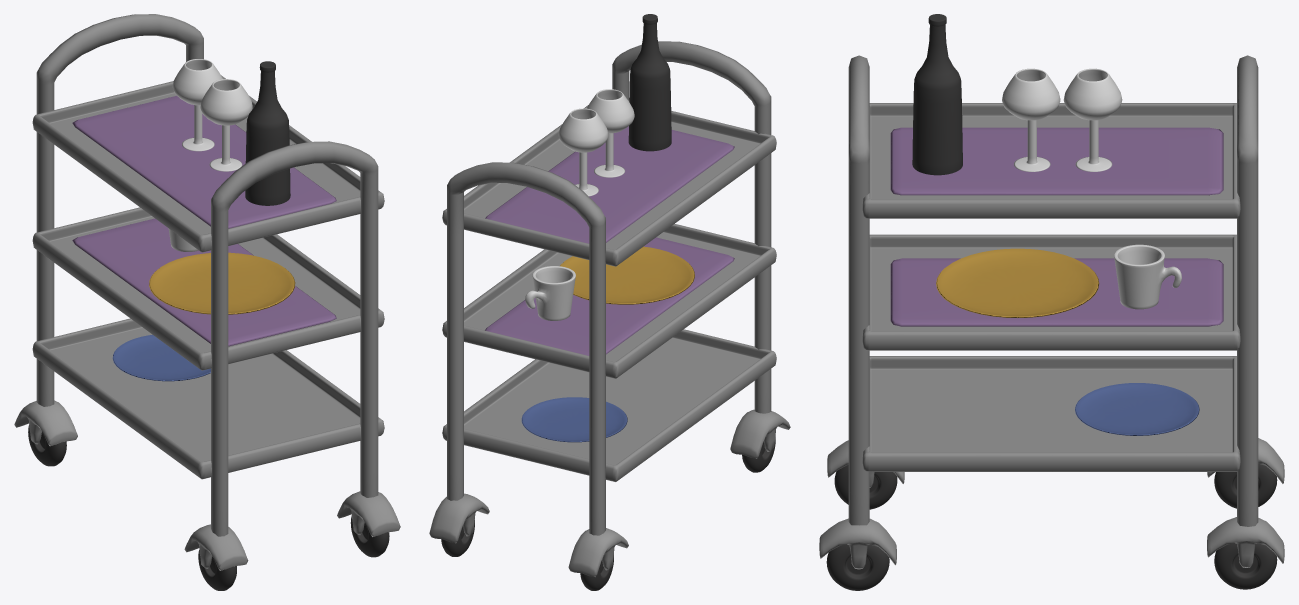
File: foodtrolley.fbx
3 renders of one model, left to right at view 1: azimuth 30°, elevation 25°; view 2: azimuth 150°, elevation 25°; view 3: azimuth 270°, elevation 25°, orthographic. The views are drawn at different scales.
Parts seen in each view (by area): view 1: pCube95, pCube97, pCube94, pCube103, pCube93, pCube96, pCube102, pCylinder17, pCylinder16, pCylinder18, pCylinder19, pCube99 (+8 smaller); view 2: pCube95, pCube96, pCube94, pCube93, pCube103, pCube97, pCube102, pCylinder17, pCylinder16, pCylinder18, pCylinder14, pCube100 (+9 smaller); view 3: pCube95, pCube94, pCube103, pCube93, pCube102, pCube96, pCube97, pCylinder17, pCylinder16, pCylinder18, pCylinder14, pCylinder22 (+11 smaller).
Part boxes in pixels (box(x1,y1,x2,y2)): pCube95: box(32, 318, 384, 479); pCube97: box(211, 141, 378, 536); pCube94: box(32, 207, 384, 370); pCube103: box(72, 95, 336, 228); pCube93: box(32, 75, 384, 252); pCube96: box(36, 14, 203, 406); pCube102: box(72, 218, 336, 346); pCylinder17: box(149, 252, 295, 314); pCylinder16: box(245, 61, 290, 205); pCylinder18: box(112, 334, 210, 381); pCylinder19: box(200, 79, 252, 125); pCube99: box(14, 400, 77, 446); pCube95: box(442, 329, 776, 481); pCube96: box(447, 162, 605, 535); pCube94: box(442, 224, 776, 378); pCube93: box(442, 100, 776, 266); pCube103: box(485, 126, 734, 243); pCube97: box(612, 41, 771, 413); pCube102: box(485, 237, 734, 355); pCylinder17: box(560, 246, 694, 304); pCylinder16: box(628, 14, 671, 151); pCylinder18: box(521, 397, 627, 442); pCylinder14: box(525, 266, 575, 320); pCube100: box(730, 409, 790, 458); pCube95: box(862, 356, 1240, 471); pCube94: box(862, 234, 1240, 350); pCube103: box(890, 127, 1223, 195); pCube93: box(862, 103, 1240, 218); pCube102: box(890, 258, 1223, 326); pCube96: box(1237, 55, 1258, 526); pCube97: box(848, 55, 869, 525); pCylinder17: box(936, 248, 1099, 317); pCylinder16: box(912, 14, 962, 175); pCylinder18: box(1075, 383, 1199, 435); pCylinder14: box(1114, 244, 1181, 309); pCylinder22: box(1063, 68, 1122, 120).
Bounding box in the file's own units: 9.79 × 24.32 × 19.1.
